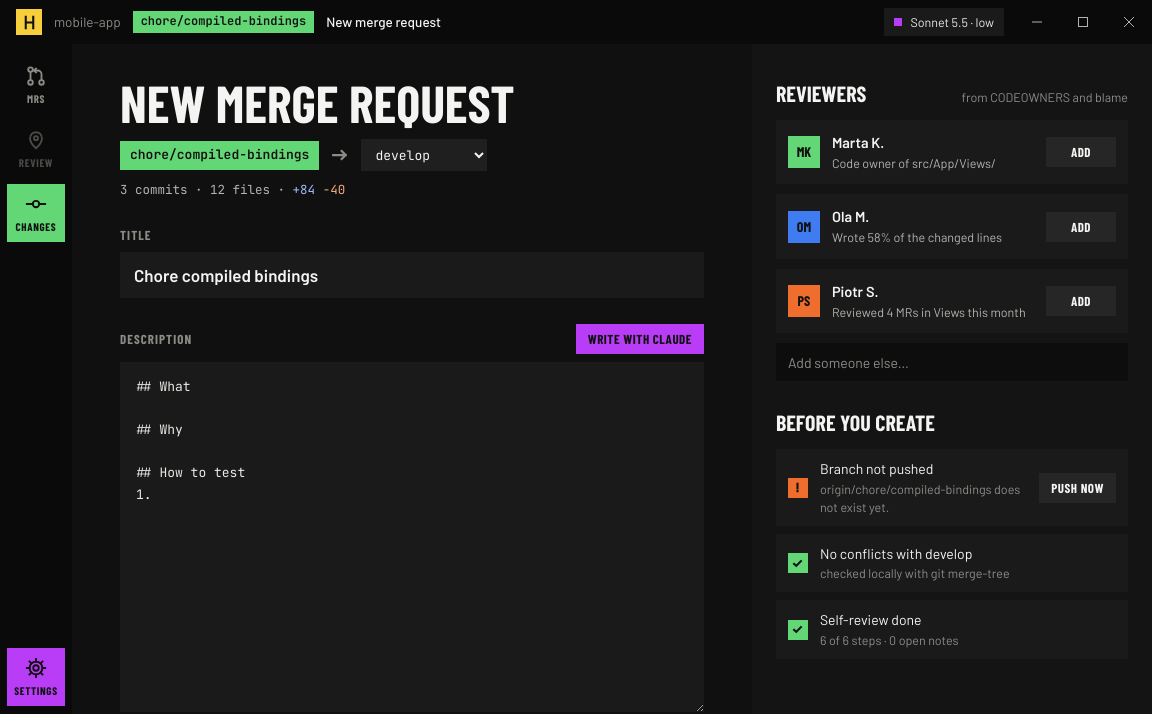
Scenario: S-11 Before you create (F-27.5) › F-27.5 a push that fails says why in the item and offers Push now again
The width and height of the screenshot is (1152, 714).
Click the button "Push now".
click(1078, 488)  # box left=1039, top=473, right=1116, bottom=503
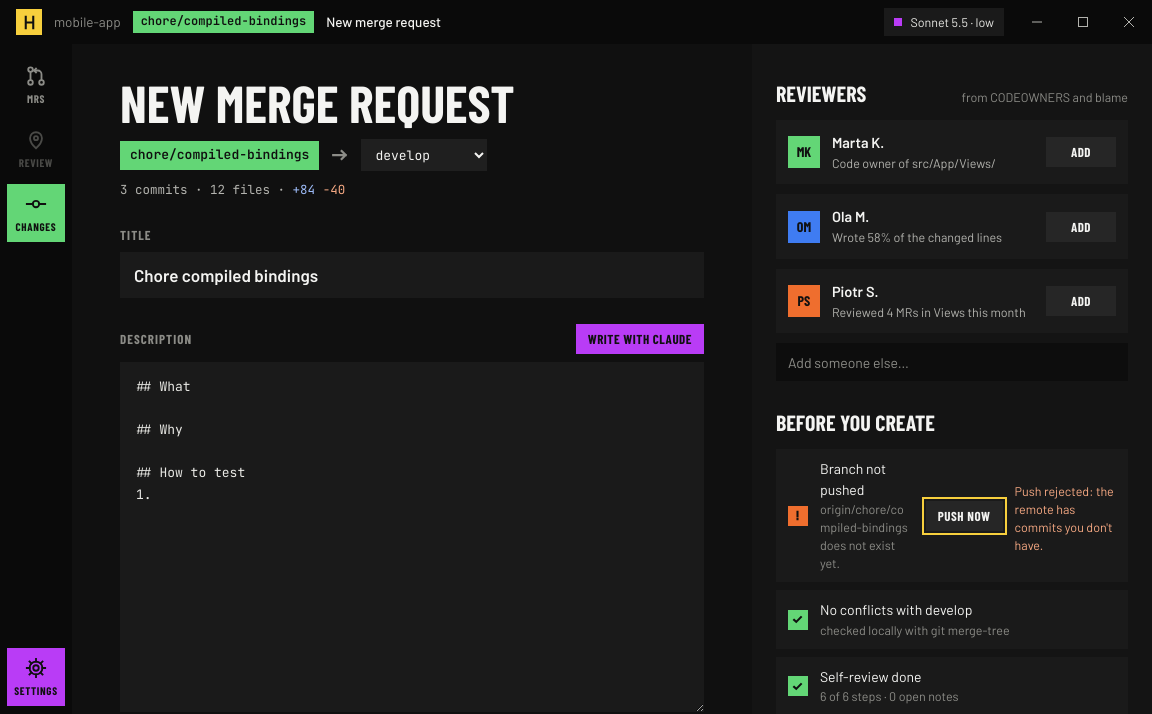
Expected: the button "Push now" is enabled, left=926, top=501, right=1003, bottom=531
Result: the message reads "Push rejected: the remote has commits you don't have." at left=1015, top=483, right=1114, bottom=553
